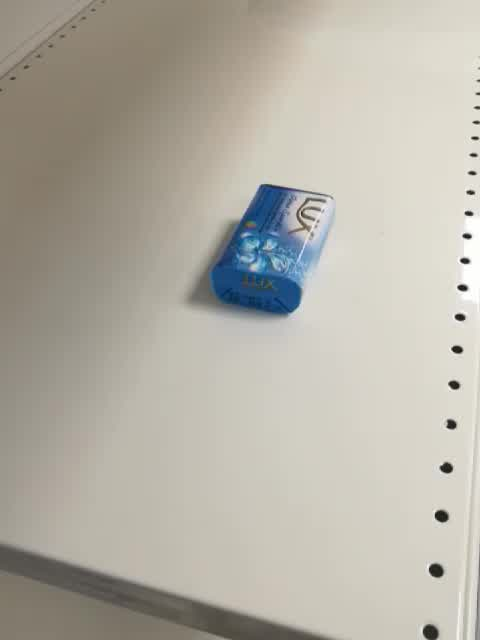soap: (210, 182, 337, 316)
